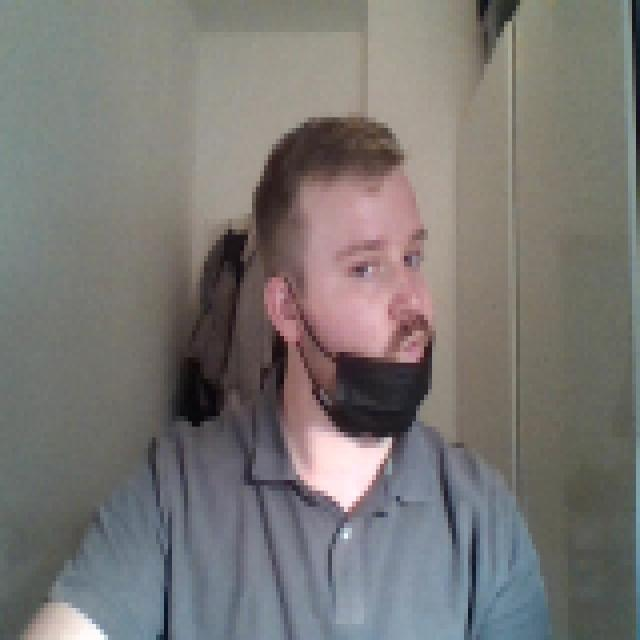hairnet: (248, 240, 444, 448)
